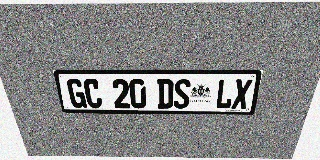0: (129, 79, 146, 108)
2: (112, 79, 130, 108)
C: (83, 79, 103, 108)
D: (157, 79, 174, 108)
G: (66, 79, 87, 108)
L: (215, 79, 235, 109)
S: (173, 79, 191, 109)
X: (231, 79, 253, 109)
